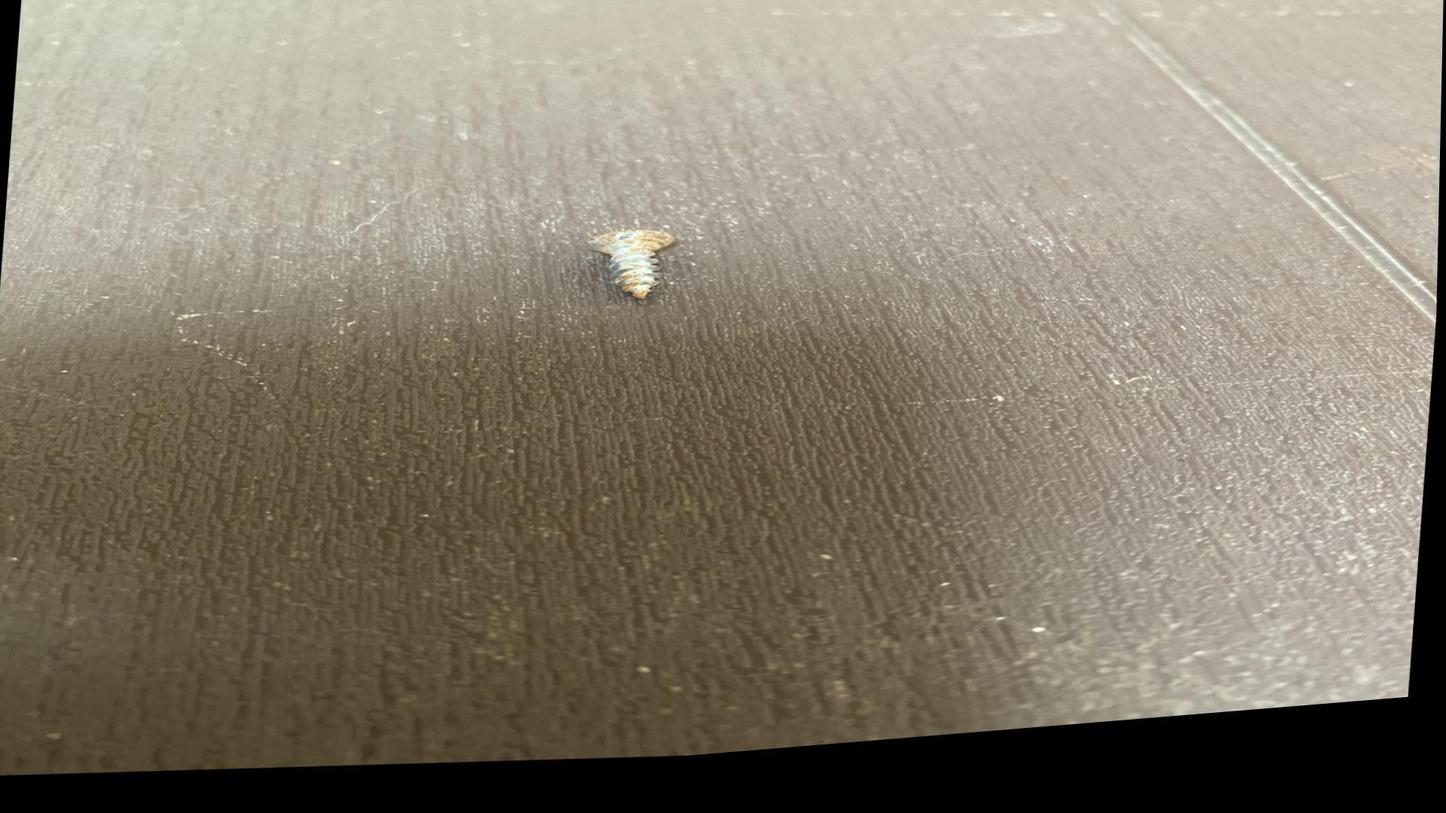screw: (553, 223, 738, 331)
